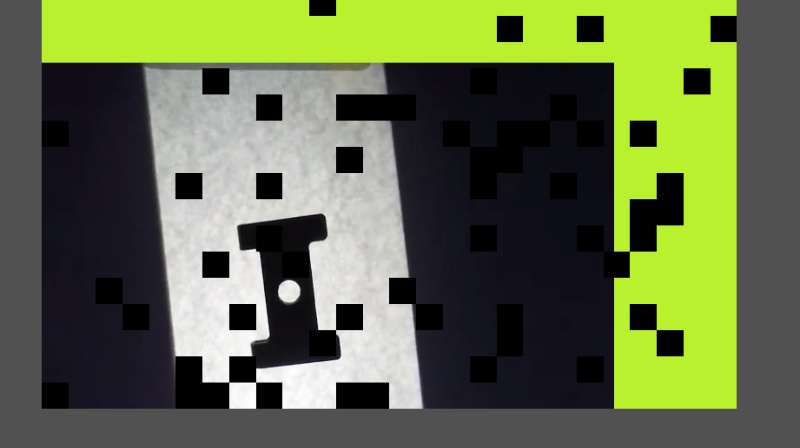O002: (229, 210, 343, 370)
